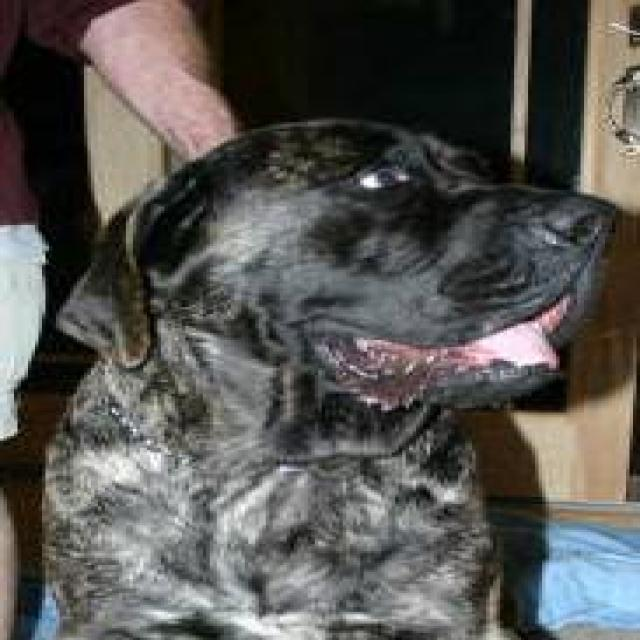dog: (35, 115, 619, 638)
